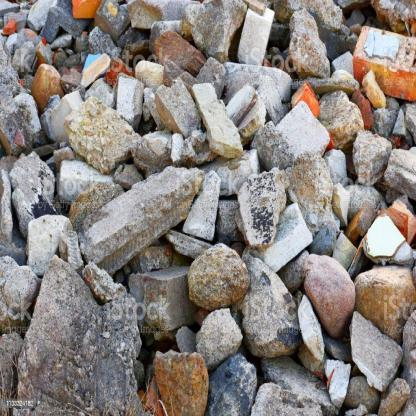brick: (3, 1, 416, 411)
